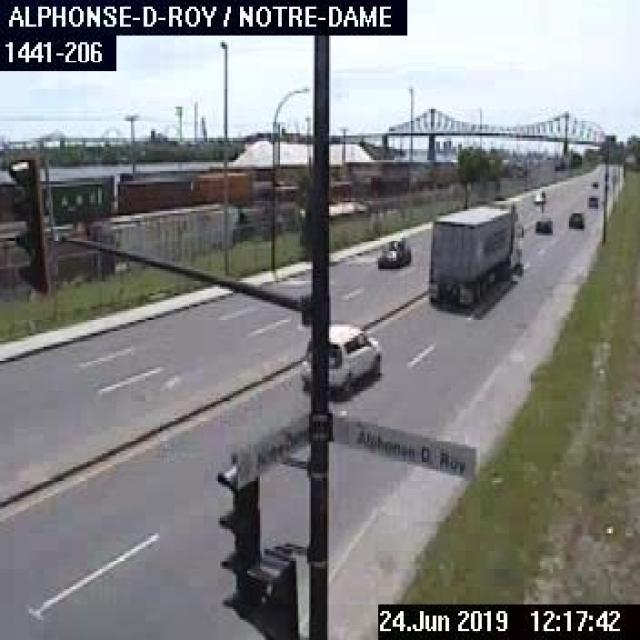vehicle: (425, 195, 522, 318), (290, 316, 384, 398), (374, 235, 411, 269), (532, 209, 552, 233), (566, 211, 584, 229), (529, 187, 544, 202), (586, 193, 598, 207)
